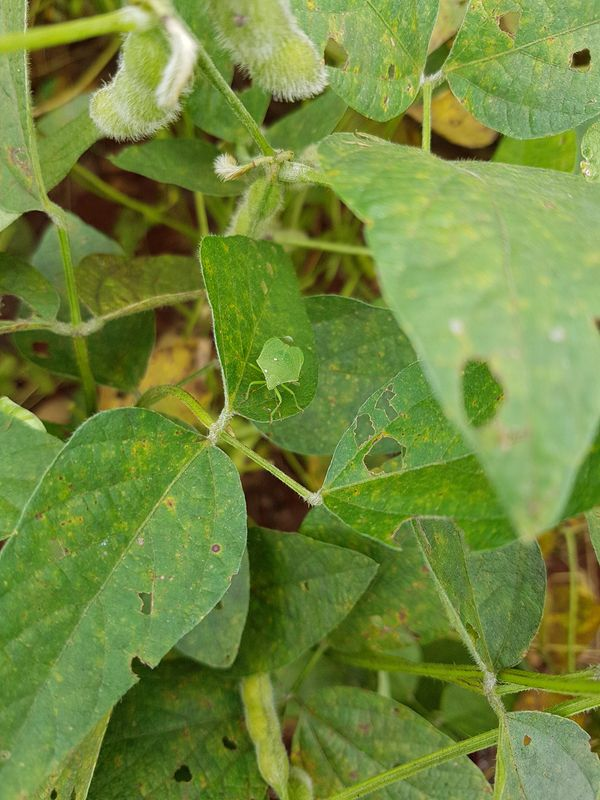Nezara_viridula_adulto: (233, 325, 328, 430)
